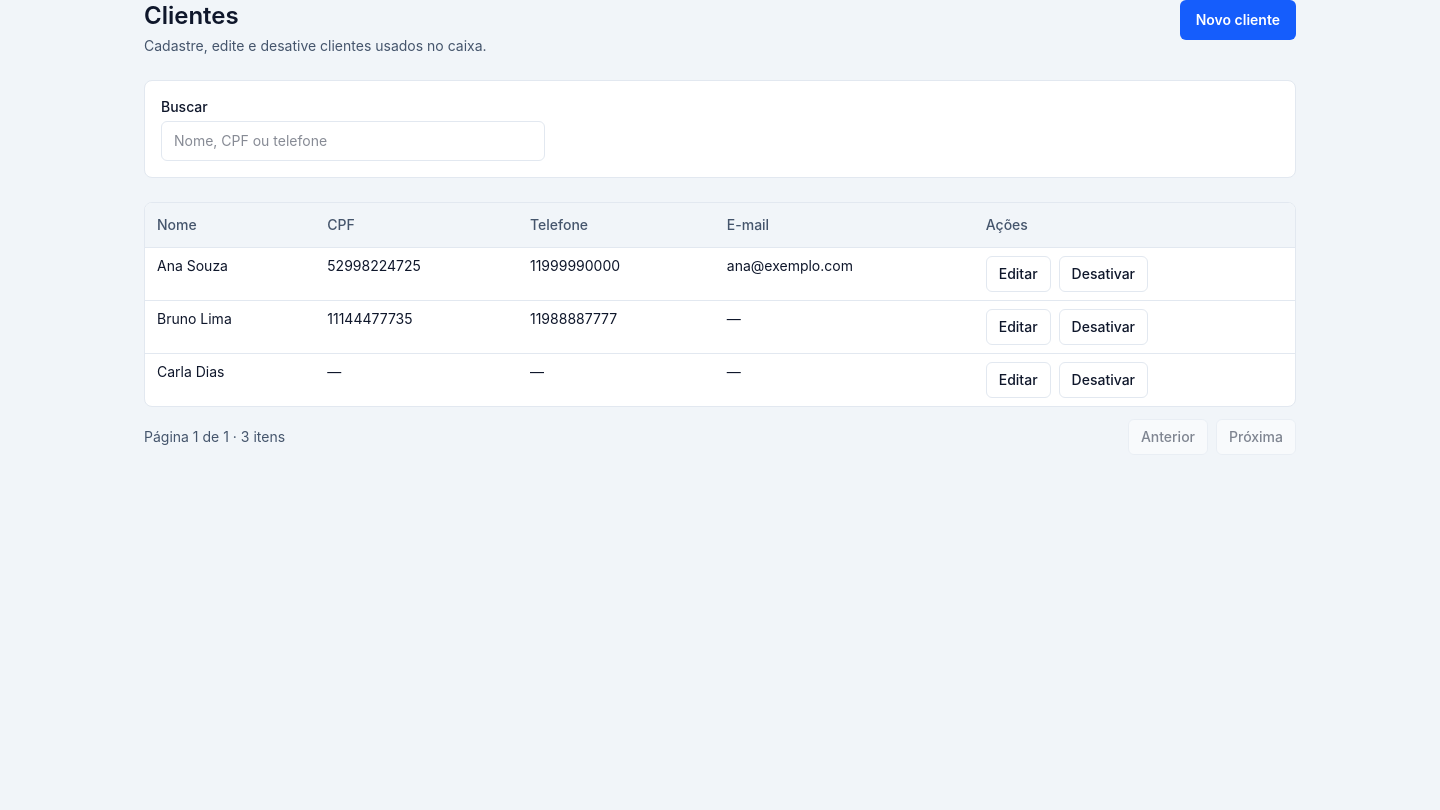
Test: CustomersPage — edição › semeia o formulário com o detalhe e manda o PUT sem If-Match
Expected: the cell "Ana Souza" is shown, [145,248,315,300]
Click the button with aria-label "Editar Ana Souza".
click(1018, 274)  # box [986,256,1051,292]
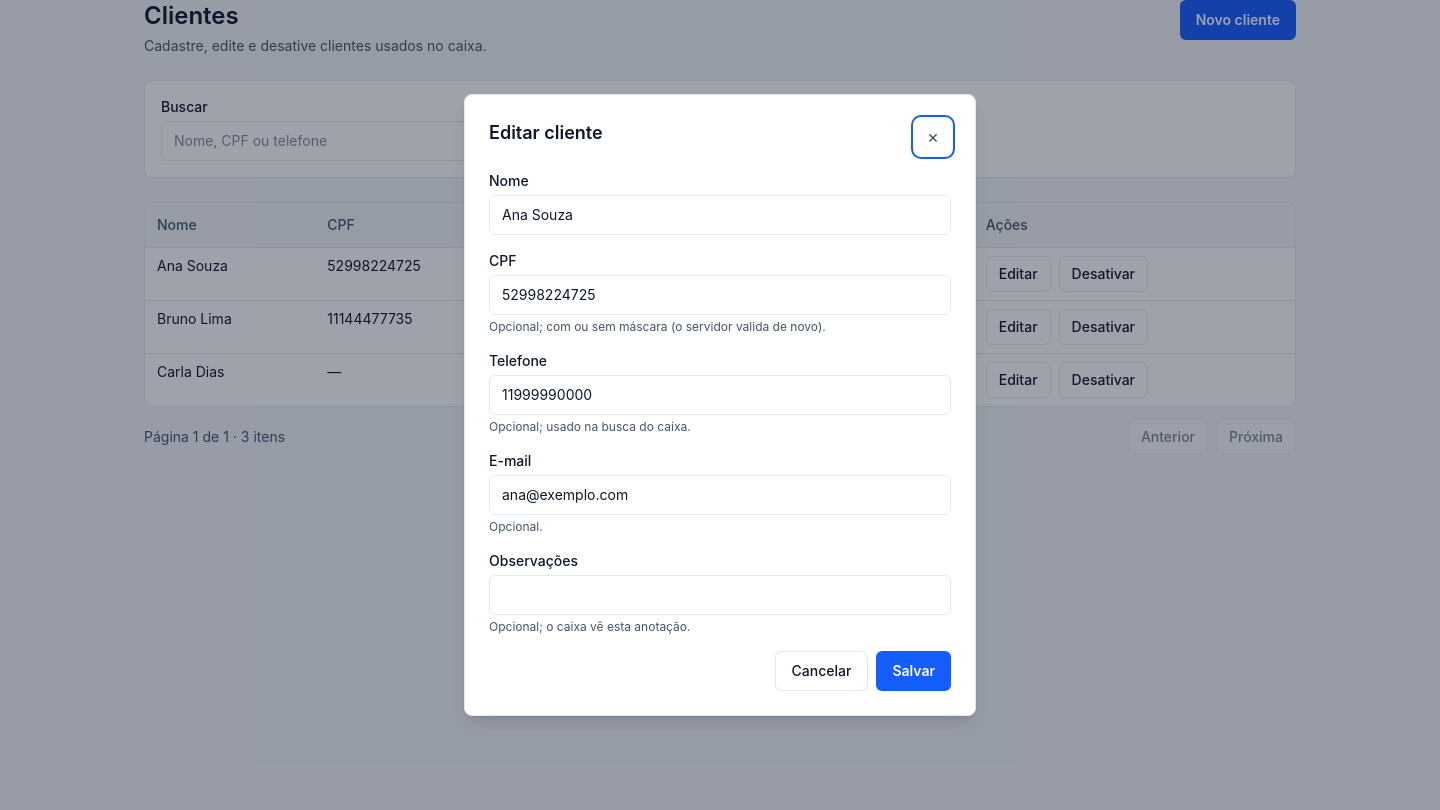
Expected: the field labelled "Nome" holds "Ana Souza"
Expected: the field labelled "CPF" holds "52998224725", [489,275,951,315]
Expected: the field labelled "Telefone" holds "11999990000", [489,375,951,415]
Replace the text in the field labelled "Nome" with "Ana Souza Lima" at [720, 215], box [489,195,951,235]
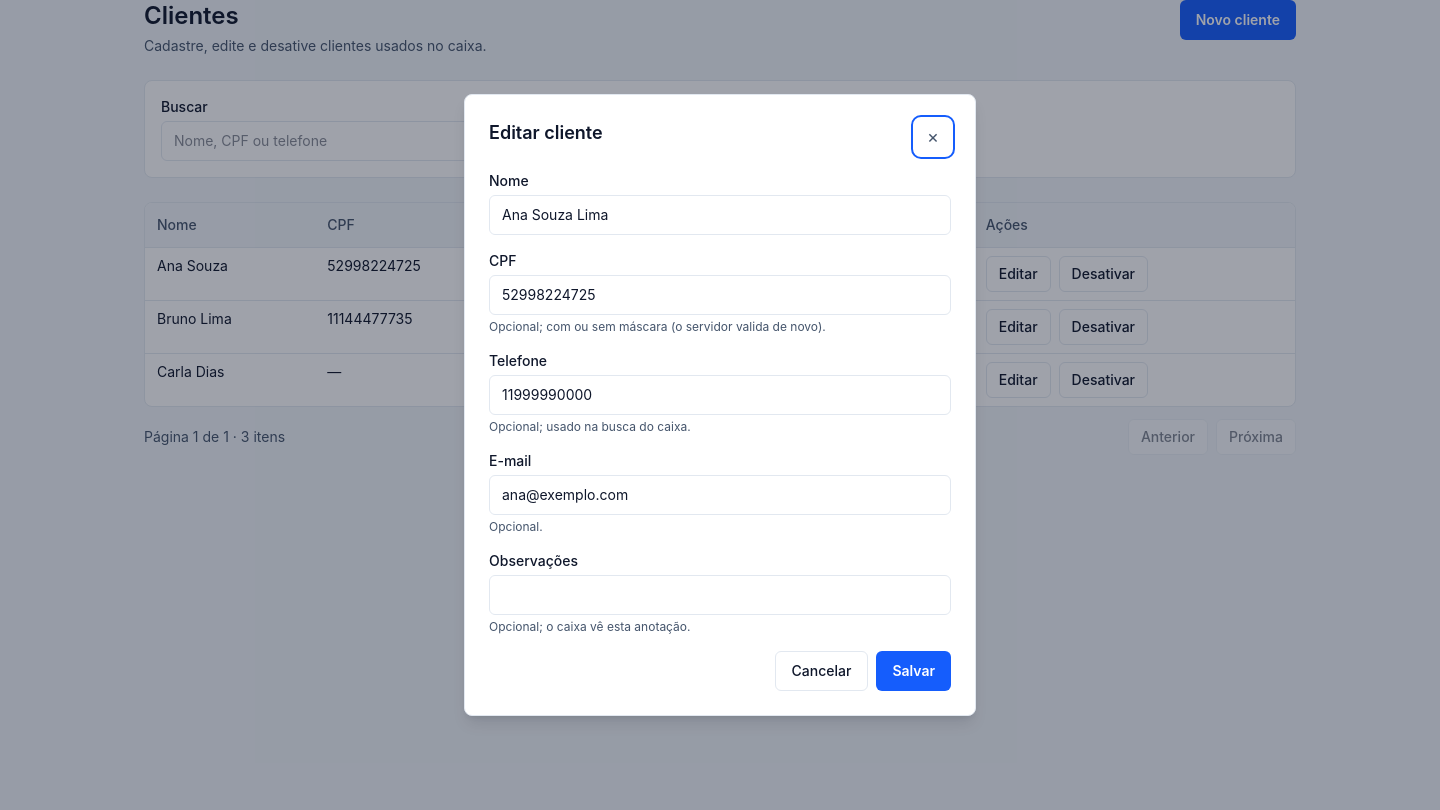
Click the button "Salvar".
click(914, 671)  # box [876,651,951,691]
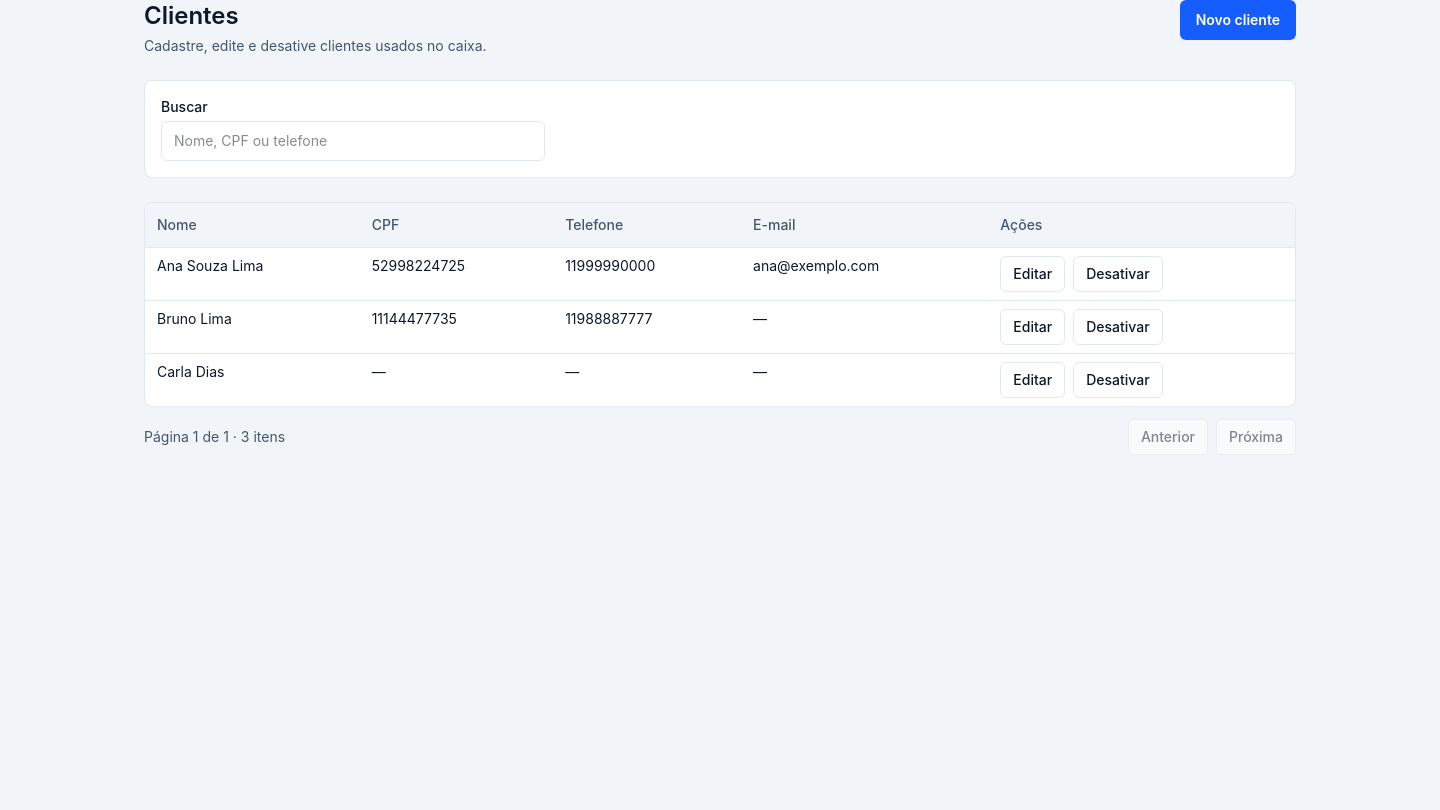
Expected: the dialog is gone
Expected: the cell "Ana Souza Lima" is shown, [145,248,360,300]
